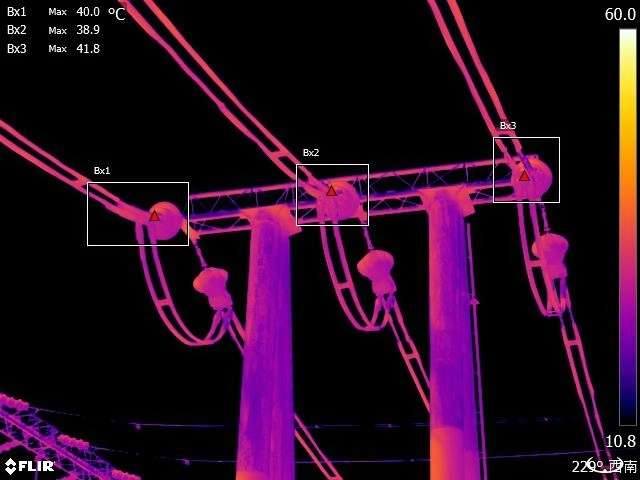clamp: (371, 291, 405, 314), (312, 196, 346, 219), (131, 214, 158, 242), (510, 179, 539, 205), (546, 280, 579, 300)
insulator: (531, 227, 577, 282), (190, 259, 236, 313), (508, 150, 556, 200), (139, 193, 186, 244), (355, 245, 401, 296), (316, 176, 362, 222), (54, 423, 95, 454), (1, 383, 32, 413), (105, 462, 147, 480)
